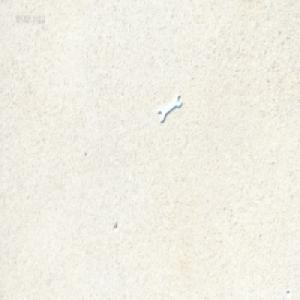Wrench: (157, 92, 182, 123)
